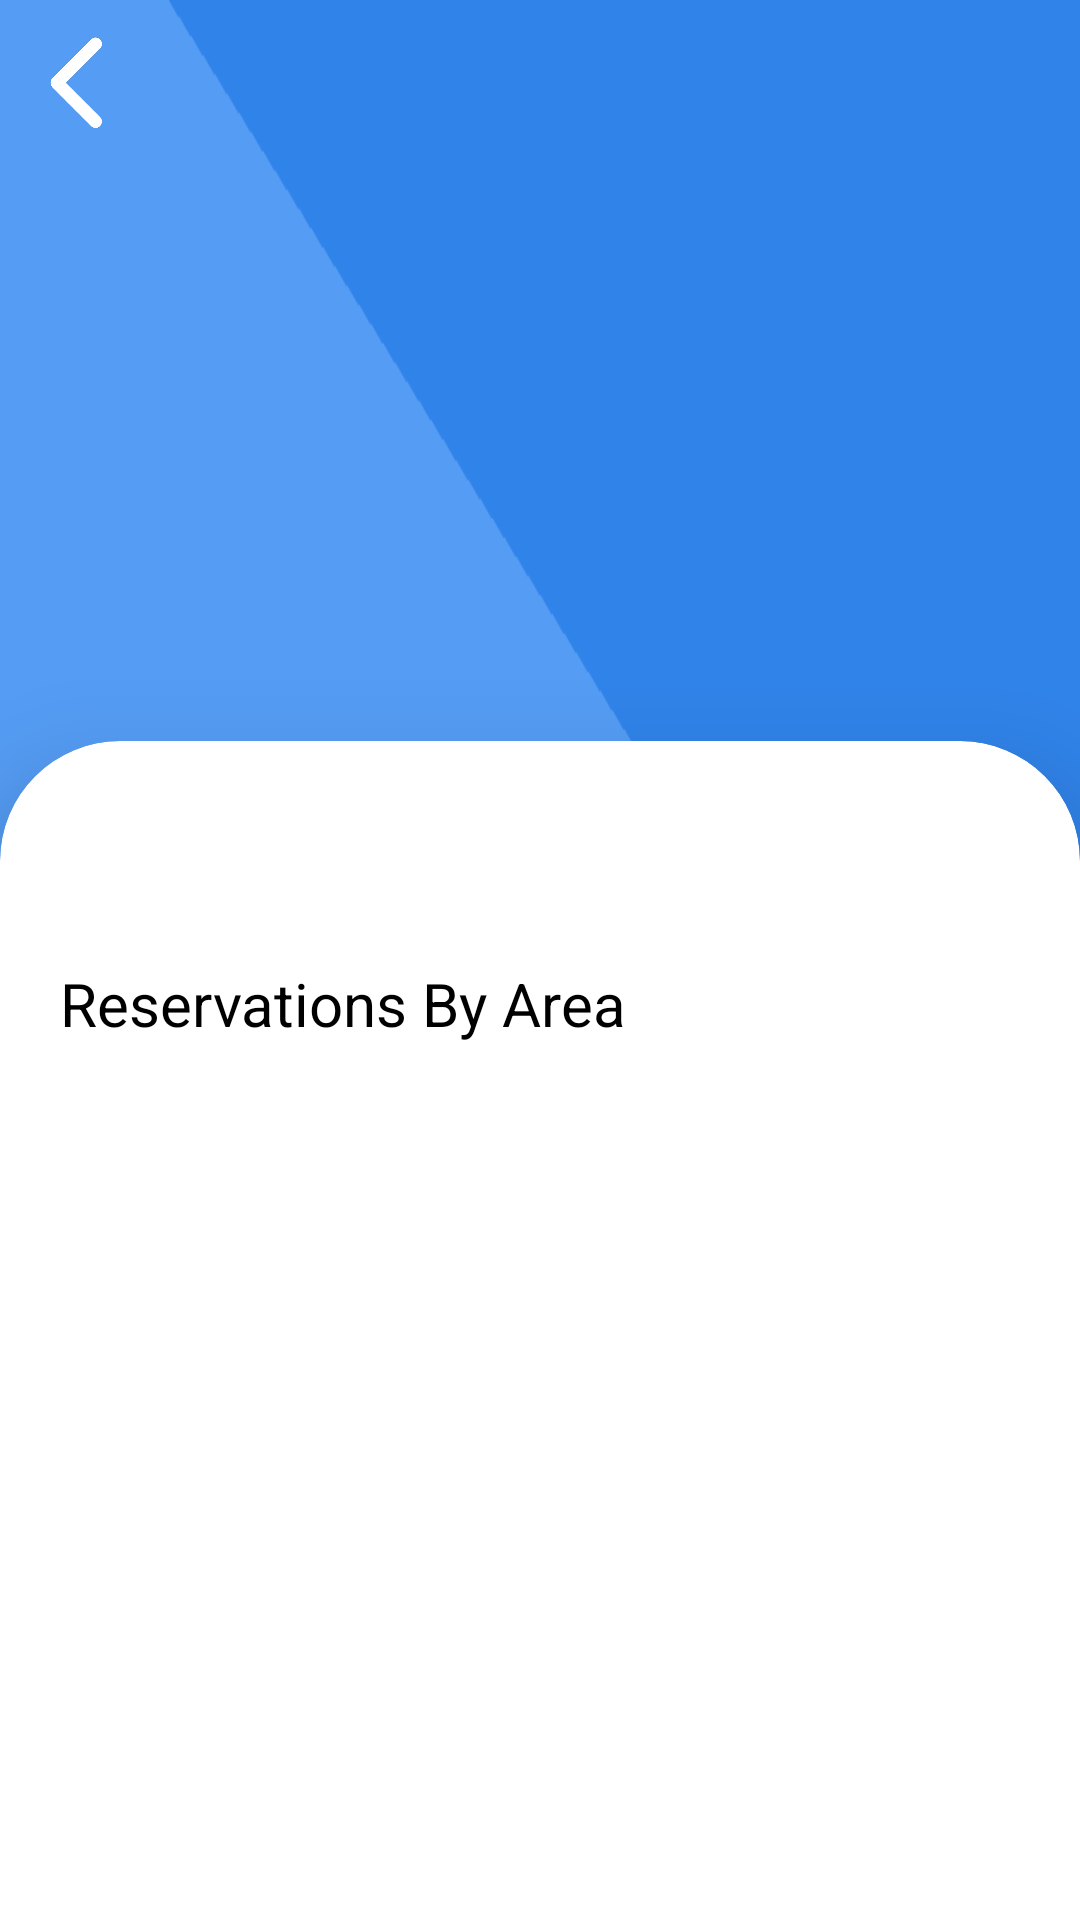

Point at icon controls on the screen. Image size 1080 × 1920, points as (x,y).
back: (76,82)
